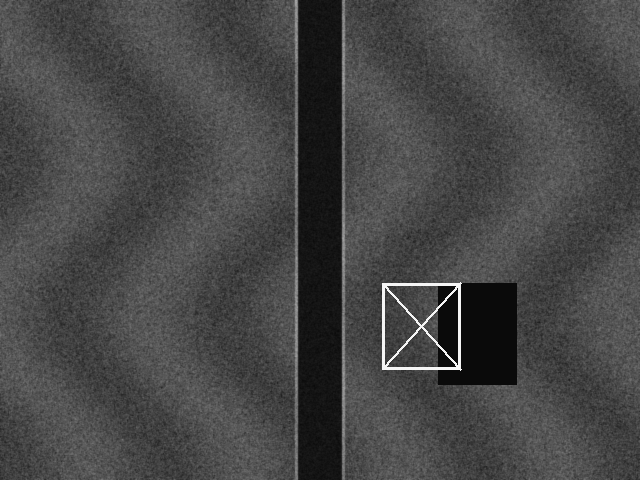Abandoned Equipment: (382, 283, 460, 369)
